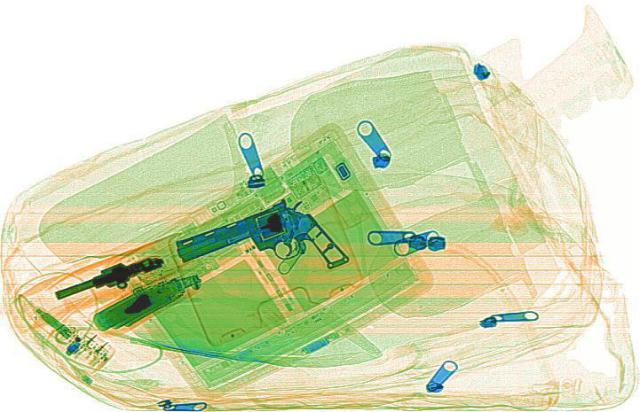Gun: (163, 197, 353, 301), (41, 247, 172, 302)
